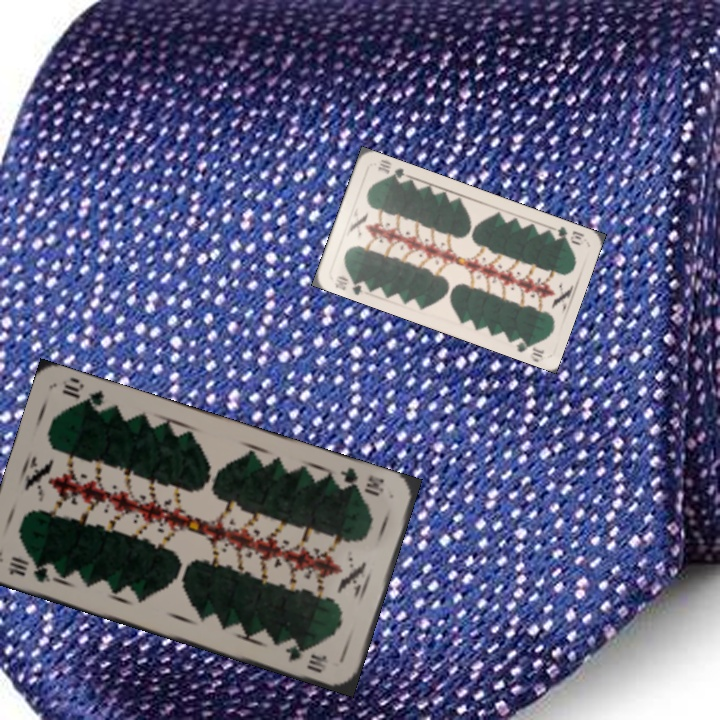G10: (335, 463, 387, 499), (4, 552, 59, 586), (547, 222, 587, 248), (330, 272, 365, 297)
